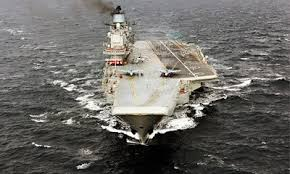tau_muctieu: (102, 9, 207, 132)
